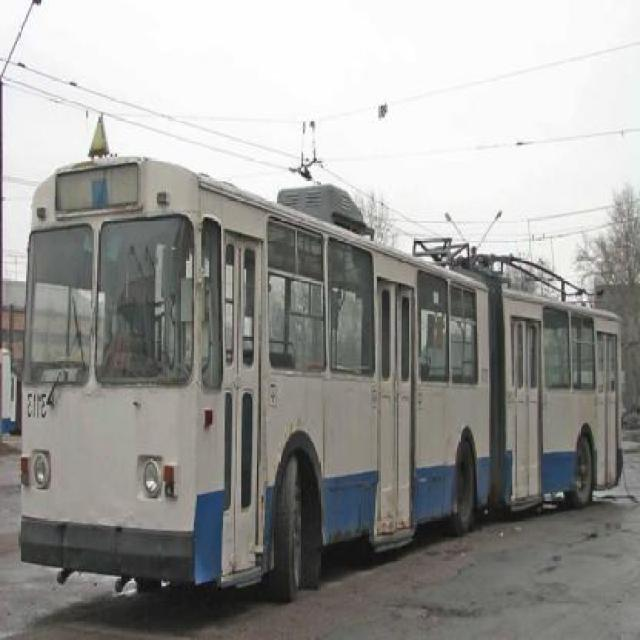bus: (22, 154, 621, 607)
